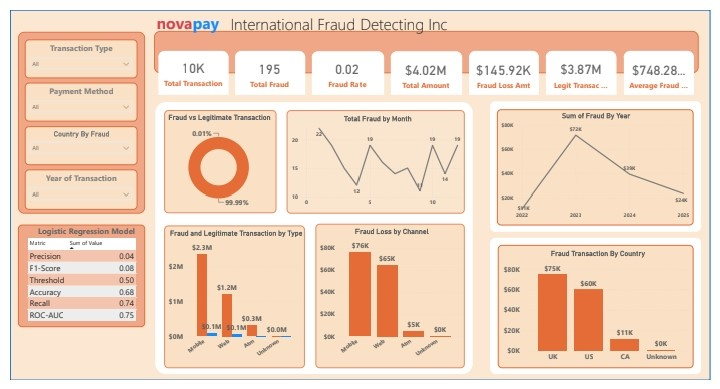

The page's visual inventory and layout, read from the dashboard file:
{"tool":"powerbi","page":{"name":"Page 1","canvas":[1650,870],"ordinal":0},"visuals":[{"type":"shape","box":[0,0,1649.4,870.5],"z":0},{"type":"shape","box":[338.6,48.7,1283.8,99.9],"z":1000},{"type":"shape","box":[17.6,51,300,427.5],"z":2000},{"type":"shape","box":[341.6,216.7,747.6,640.2],"z":3000},{"type":"shape","box":[1130.2,214.7,497.7,306.4],"z":4000},{"type":"shape","box":[1130.2,534.8,497.7,322.1],"z":5000},{"type":"shape","box":[348.6,95.9,166.2,104.1],"z":6000},{"type":"shape","box":[529.7,95.9,166.2,104.1],"z":7000},{"type":"shape","box":[710.8,97.3,168.9,102.7],"z":8000},{"type":"shape","box":[894.6,97.3,168.9,102.7],"z":9000},{"type":"shape","box":[1079.7,95.9,164.9,104.1],"z":10000},{"type":"shape","box":[1260.8,95.9,167.6,104.1],"z":11000},{"type":"shape","box":[1444.6,95.9,166.2,104.1],"z":12000},{"type":"card","fields":{"Values":["_pki.Total Transaction"]},"box":[356.8,101.4,150,91.9],"z":13000},{"type":"card","fields":{"Values":["_pki.Total Fraud Cases"]},"box":[537.8,102.7,148.6,90.5],"z":14000},{"type":"card","fields":{"Values":["_pki.Fraud Rate"]},"box":[720.3,104.1,148.6,90.5],"z":15000},{"type":"card","fields":{"Values":["_pki.Total Amount"]},"box":[904.1,105.4,148.6,90.5],"z":16000},{"type":"card","fields":{"Values":["_pki.Fraud Loss Amt"]},"box":[1087.8,105.4,148.6,91.9],"z":17000},{"type":"card","fields":{"Values":["_pki.Legit Transac Amt"]},"box":[1270.3,104.1,148.6,91.9],"z":18000},{"type":"card","fields":{"Values":["_pki.Average Fraud Amount"]},"box":[1452.7,105.4,150,91.9],"z":19000},{"type":"donutChart","title":"Fraud vs Legitimate Transaction","fields":{"Y":["_pki.Legit Transac Amt","_pki.Total Fraud"]},"box":[363,236.3,265.5,241.2],"z":20000},{"type":"lineChart","title":"Total Fraud by Month","fields":{"Category":["df_cleaned.month"],"Y":["_pki.Total Fraud"]},"box":[651.9,236.2,417.7,242],"z":21000},{"type":"clusteredColumnChart","title":"Fraud and Legitimate Transaction by Type ","fields":{"Category":["df_cleaned.channel"],"Y":["Sum(df_cleaned.amount_usd)"],"Series":["df_cleaned.is_fraud"]},"box":[363.1,505.5,331.8,337.7],"z":22000},{"type":"lineChart","title":"Sum of Fraud By Year","fields":{"Category":["df_cleaned.year"],"Y":["Sum(df_cleaned.Fraud Transaction)"]},"box":[1145.8,234.2,464.6,271.3],"z":23000},{"type":"columnChart","title":" Fraud Transaction By Country","fields":{"Category":["df_cleaned.home_country"],"Y":["Sum(df_cleaned.Fraud Transaction)"]},"box":[1147.7,552.4,462.6,290.8],"z":24000},{"type":"slicer","title":"Transaction Type","fields":{"Values":["df_cleaned.Transaction Type"]},"box":[33.8,68.6,266.7,92.2],"z":25000},{"type":"slicer","title":"Payment Method","fields":{"Values":["df_cleaned.channel"]},"box":[33.8,171.2,266.7,92.2],"z":26000},{"type":"slicer","title":"Country By Fraud","fields":{"Values":["df_cleaned.home_country"]},"box":[33.8,273.9,266.7,92.2],"z":27000},{"type":"slicer","title":"Year of Transaction ","fields":{"Values":["df_cleaned.year"]},"box":[33.8,376.5,266.7,92.2],"z":28000},{"type":"tableEx","title":" Logistic Regression Model","fields":{"Values":["Model Evaluation.Matric","Sum(Model Evaluation.Value)"]},"box":[17.6,503.6,300.6,242],"z":29000},{"type":"textbox","box":[329.9,0,177.6,60.5],"z":30000},{"type":"textbox","box":[515.3,2,653.9,60.5],"z":31000},{"type":"clusteredColumnChart","title":"Fraud Loss by Channel","fields":{"Category":["df_cleaned.channel"],"Y":["Sum(df_cleaned.Fraud Transaction)"]},"box":[720.3,501.6,349.4,341.6],"z":32000}]}

Visuals, with their boxes in screenshot pixels (x1, y1, x2, y2), scaled from the page's 1650x870 canvas onto the 720x389 screenshot:
shape: <box>0,0,719,388</box>
shape: <box>148,22,708,66</box>
shape: <box>8,23,139,214</box>
shape: <box>149,97,475,383</box>
shape: <box>493,96,710,233</box>
shape: <box>493,239,710,383</box>
shape: <box>152,43,225,89</box>
shape: <box>231,43,304,89</box>
shape: <box>310,44,384,89</box>
shape: <box>390,44,464,89</box>
shape: <box>471,43,543,89</box>
shape: <box>550,43,623,89</box>
shape: <box>630,43,703,89</box>
card - _pki.Total Transaction: <box>156,45,221,86</box>
card - _pki.Total Fraud Cases: <box>235,46,300,86</box>
card - _pki.Fraud Rate: <box>314,47,379,87</box>
card - _pki.Total Amount: <box>395,47,459,88</box>
card - _pki.Fraud Loss Amt: <box>475,47,540,88</box>
card - _pki.Legit Transac Amt: <box>554,47,619,88</box>
card - _pki.Average Fraud Amount: <box>634,47,699,88</box>
"Fraud vs Legitimate Transaction" donutChart: <box>158,106,274,214</box>
"Total Fraud by Month" lineChart: <box>284,106,467,214</box>
"Fraud and Legitimate Transaction by Type " clusteredColumnChart: <box>158,226,303,377</box>
"Sum of Fraud By Year" lineChart: <box>500,105,703,226</box>
" Fraud Transaction By Country" columnChart: <box>501,247,703,377</box>
"Transaction Type" slicer: <box>15,31,131,72</box>
"Payment Method" slicer: <box>15,77,131,118</box>
"Country By Fraud" slicer: <box>15,122,131,164</box>
"Year of Transaction " slicer: <box>15,168,131,210</box>
" Logistic Regression Model" tableEx: <box>8,225,139,333</box>
textbox: <box>144,0,221,27</box>
textbox: <box>225,1,510,28</box>
"Fraud Loss by Channel" clusteredColumnChart: <box>314,224,467,377</box>
